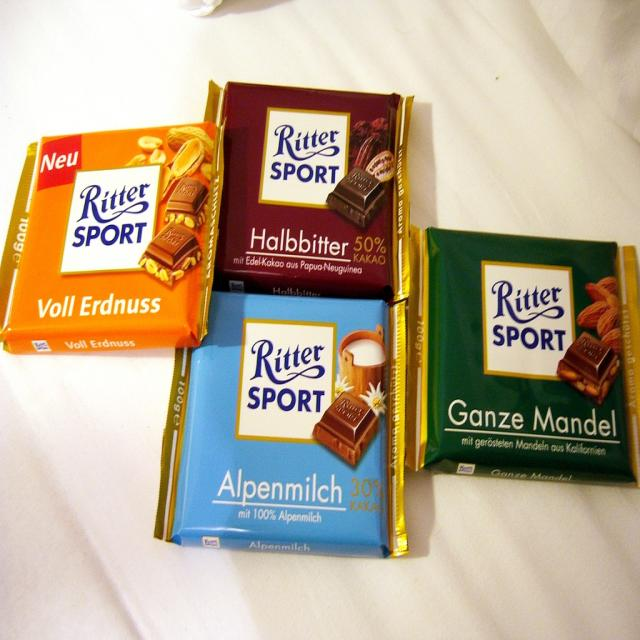rittersport: (234, 320, 337, 441), (481, 259, 581, 383), (60, 165, 165, 275), (260, 108, 350, 207)
